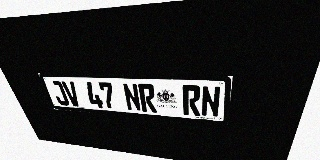4: (83, 82, 104, 109)
7: (97, 82, 118, 110)
J: (49, 81, 70, 106)
N: (201, 85, 221, 118), (122, 83, 142, 111)
R: (182, 85, 201, 116), (138, 83, 157, 113)
V: (61, 81, 82, 107)
